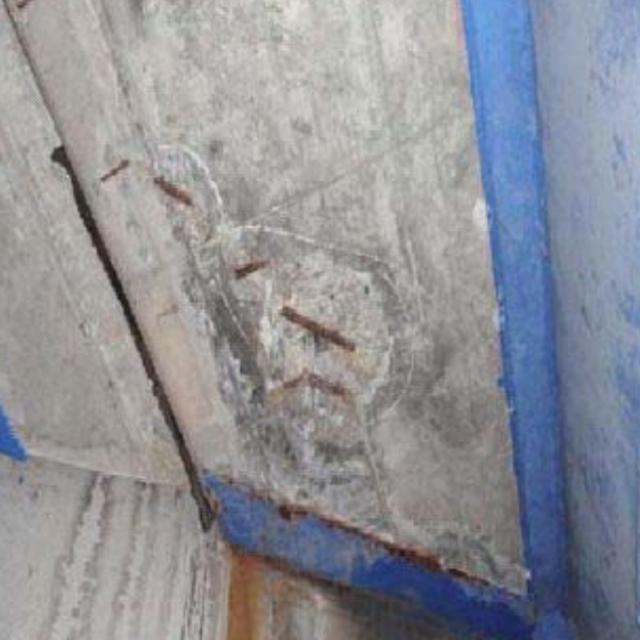spalling: (144, 142, 456, 574)
